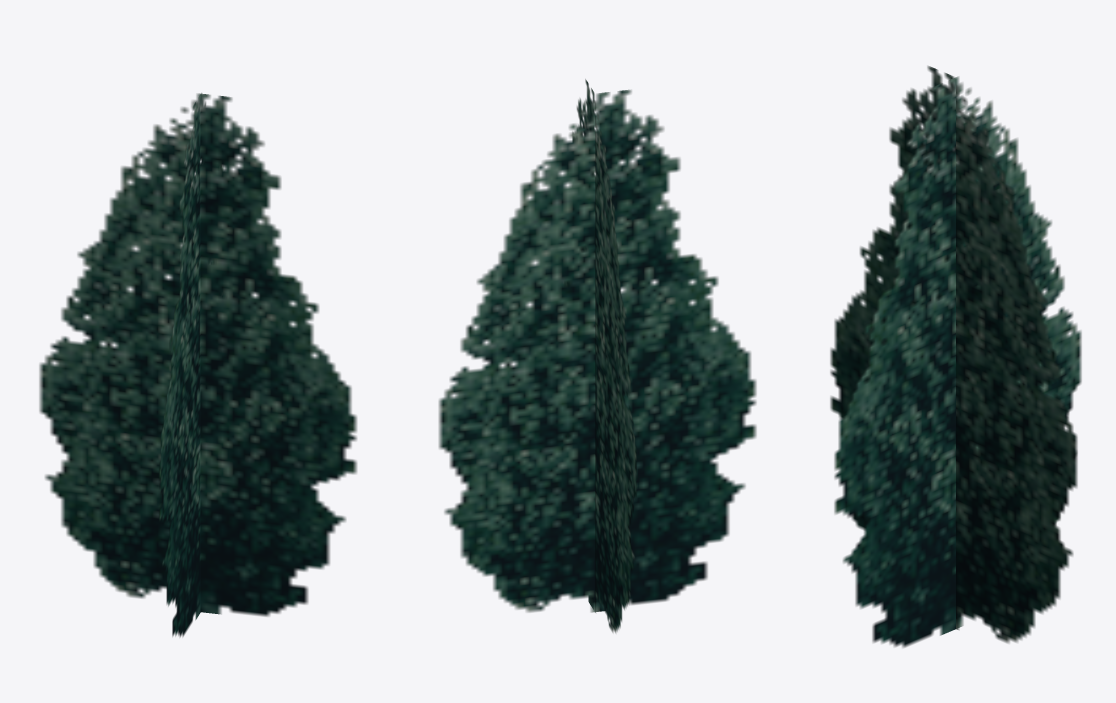
The model's file is tree063.glb.
3 views of the same model, side by side, from view 1: azimuth 30°, elevation 25°; view 2: azimuth 150°, elevation 25°; view 3: azimuth 270°, elevation 25° (orthographic). The views are drawn at different scales.
Parts seen in each view (by area): view 1: tree063; view 2: tree063; view 3: tree063.
Part boxes in pixels (<box>): tree063: <box>39,93,356,637</box>; tree063: <box>439,79,756,632</box>; tree063: <box>830,66,1081,647</box>.
Size of the model in its own units: 2.35 by 5.01 by 2.35.
1 material, 1 textured.
